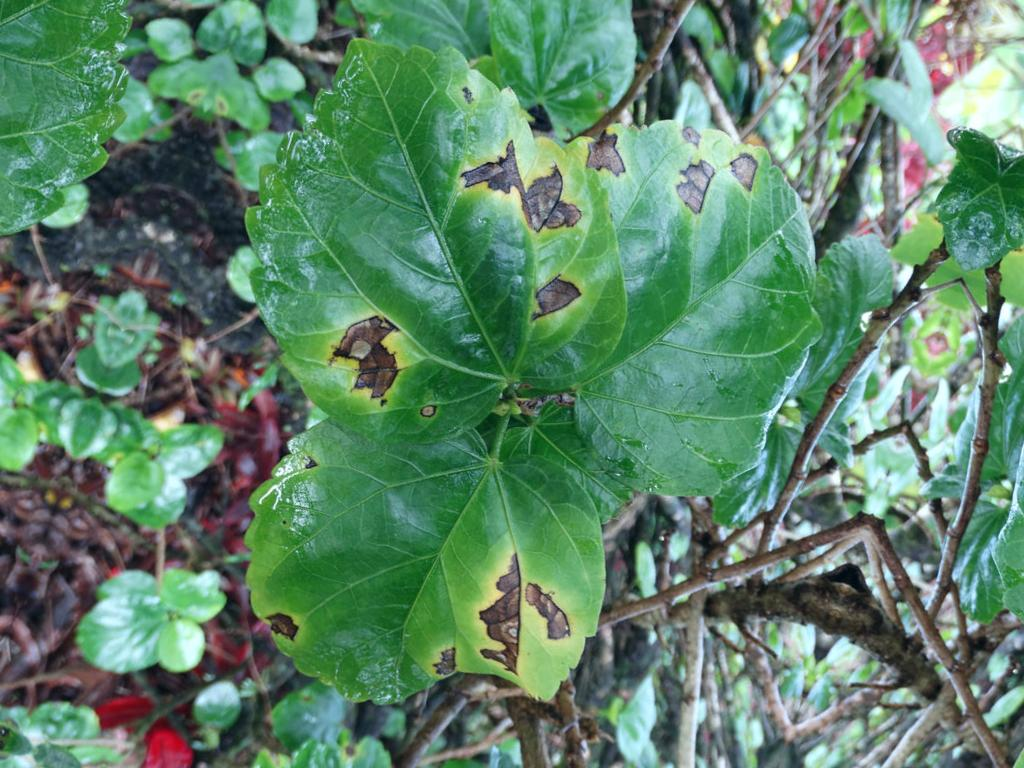Tomato Septoria leaf spot: (188, 0, 681, 503), (204, 372, 649, 768)
